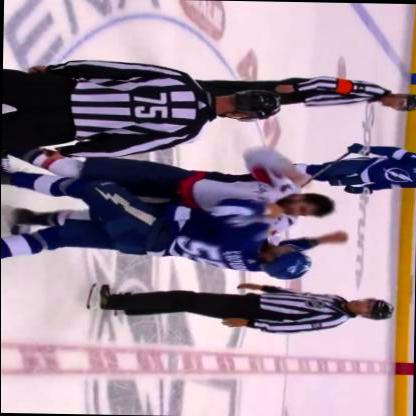non-Voilence: (1, 60, 283, 160), (85, 279, 397, 334), (190, 68, 416, 112)
voilence: (1, 140, 349, 283)
